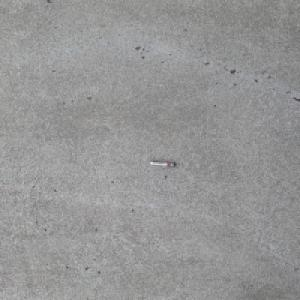Battery: (149, 161, 176, 167)
